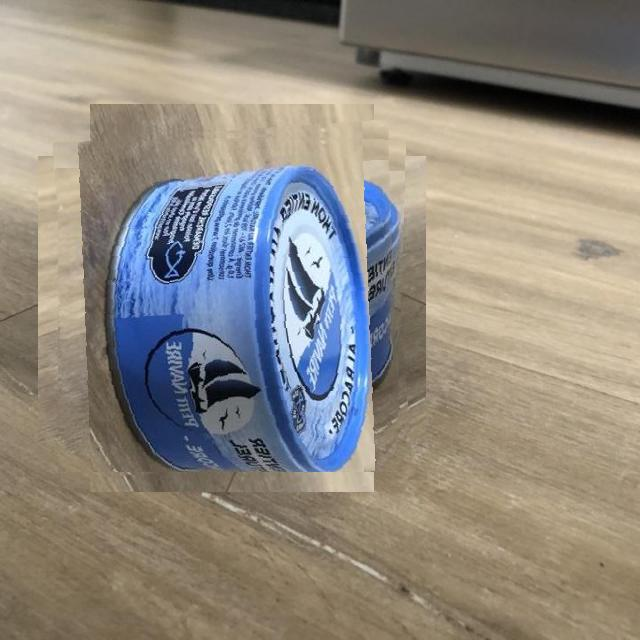recyclable: (58, 125, 406, 472)
